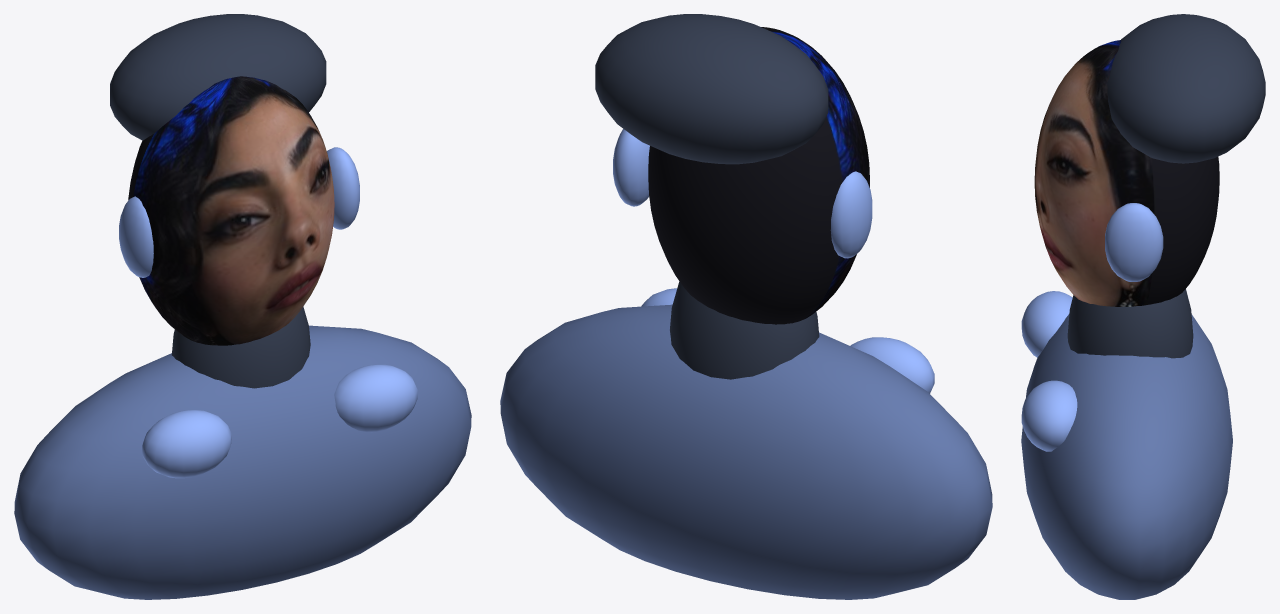
File: performer.glb
3 views of the same model, side by side, from view 1: azimuth 30°, elevation 25°; view 2: azimuth 150°, elevation 25°; view 3: azimuth 270°, elevation 25° (orthographic). The views are drawn at different scales.
Size of the model in its own units: 1.53 by 1.68 by 0.7386.
Materials: 4 (1 with a texture image).
